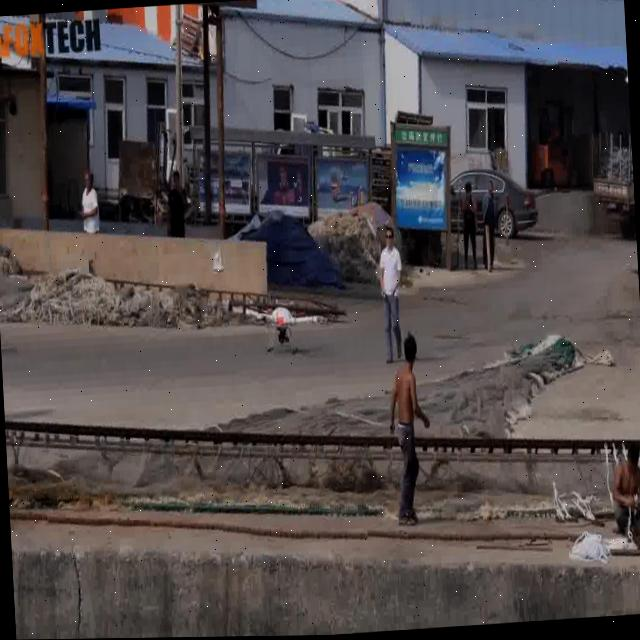drone: (238, 295, 328, 360)
